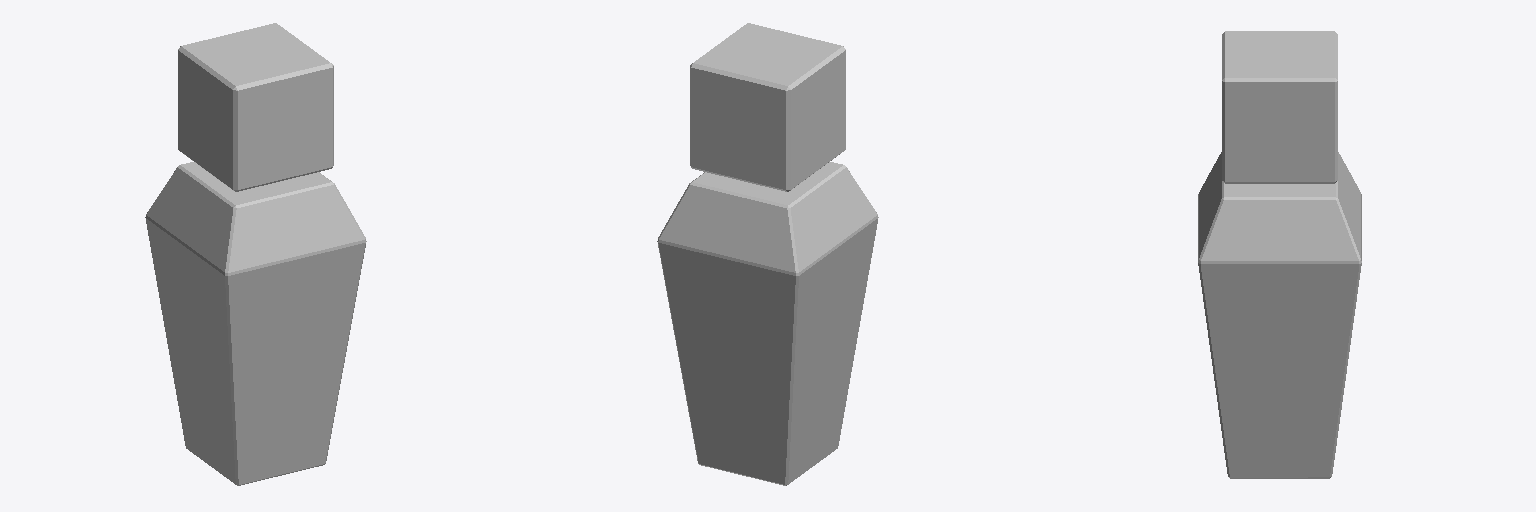
The model's file is bot3.obj.
3 views of the same model, side by side, from view 1: azimuth 30°, elevation 25°; view 2: azimuth 150°, elevation 25°; view 3: azimuth 270°, elevation 25° (orthographic).
Visible parts, largest first — view 1: pCube1 group2, group2 pCube2; view 2: pCube1 group2, group2 pCube2; view 3: pCube1 group2, group2 pCube2.
Part boxes in pixels (left/top/right/bottom): pCube1 group2: left=145, top=162, right=366, bottom=485; group2 pCube2: left=178, top=23, right=333, bottom=191; pCube1 group2: left=657, top=162, right=878, bottom=485; group2 pCube2: left=690, top=23, right=845, bottom=191; pCube1 group2: left=1198, top=152, right=1361, bottom=478; group2 pCube2: left=1222, top=31, right=1337, bottom=183.
Bounding box in the file's own units: 62.74 × 170 × 62.74.